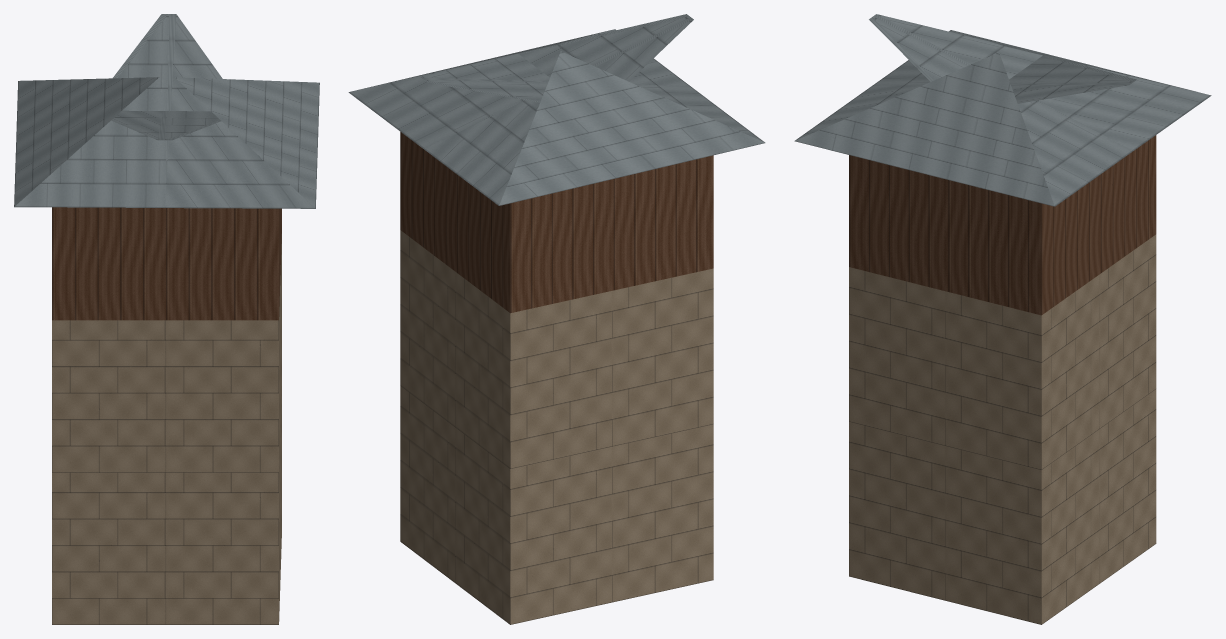
File: bld_c10_10_494.gltf
3 renders of one model, left to right at view 1: azimuth 30°, elevation 25°; view 2: azimuth 150°, elevation 25°; view 3: azimuth 270°, elevation 25°, orthographic. The views are drawn at different scales.
Parts seen in each view (by area): view 1: bld_c10_10_494; view 2: bld_c10_10_494; view 3: bld_c10_10_494.
Boxes of the visible parts, <box> form: bld_c10_10_494: <box>14,14,319,624</box>; bld_c10_10_494: <box>348,14,765,624</box>; bld_c10_10_494: <box>794,14,1211,624</box>.
Bounding box in the file's own units: 5.52 × 7.4 × 5.5.
3 materials, 3 textured.
